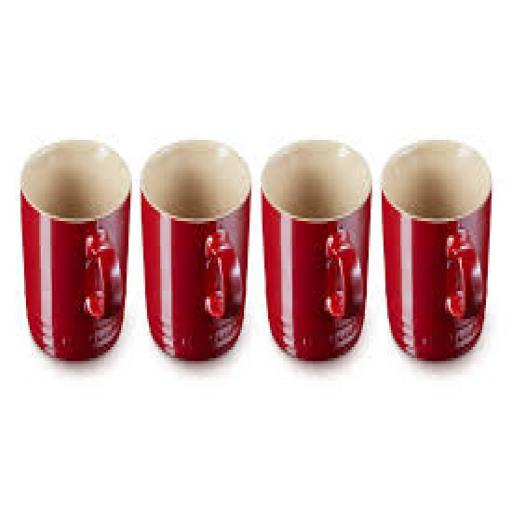red mug: (142, 140, 251, 360), (382, 140, 491, 360), (21, 140, 130, 360), (263, 140, 372, 360)
